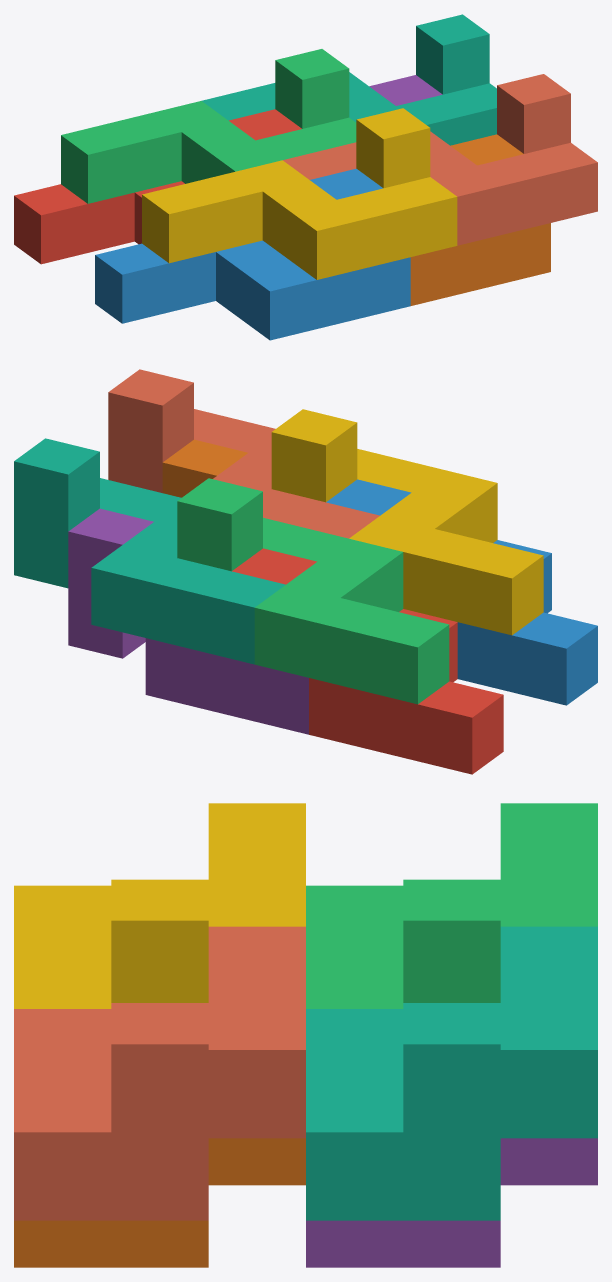
Rendered from tiling.obj.
The picture shows the model from 3 angles, top to bottom: view 1: azimuth 30°, elevation 25°; view 2: azimuth 150°, elevation 25°; view 3: azimuth 270°, elevation 25°; orthographic projection. The views are drawn at different scales.
Parts seen in each view (by area): view 1: copy_1_domain_4, copy_1_domain_3, copy_1_domain_2, copy_1_domain_8, copy_1_domain_7, copy_1_domain_1, copy_1_domain_6, copy_1_domain_5; view 2: copy_1_domain_3, copy_1_domain_7, copy_1_domain_4, copy_1_domain_5, copy_1_domain_1, copy_1_domain_8, copy_1_domain_2, copy_1_domain_6; view 3: copy_1_domain_7, copy_1_domain_8, copy_1_domain_3, copy_1_domain_4, copy_1_domain_5, copy_1_domain_6.
Boxes of the visible parts, x1,y1,x2,y2 form: copy_1_domain_4: (142, 108, 457, 279); copy_1_domain_3: (61, 49, 356, 203); copy_1_domain_2: (95, 168, 410, 340); copy_1_domain_8: (283, 74, 597, 245); copy_1_domain_7: (201, 14, 496, 145); copy_1_domain_1: (14, 109, 301, 264); copy_1_domain_6: (410, 134, 550, 305); copy_1_domain_5: (369, 75, 442, 105); copy_1_domain_3: (177, 478, 449, 704); copy_1_domain_7: (14, 438, 285, 664); copy_1_domain_4: (271, 409, 543, 635); copy_1_domain_5: (68, 508, 308, 734); copy_1_domain_1: (232, 548, 503, 774); copy_1_domain_8: (108, 369, 379, 538); copy_1_domain_2: (326, 479, 597, 705); copy_1_domain_6: (162, 439, 247, 497); copy_1_domain_7: (306, 926, 597, 1220); copy_1_domain_8: (14, 926, 305, 1220); copy_1_domain_3: (306, 803, 597, 1008); copy_1_domain_4: (14, 803, 305, 1008); copy_1_domain_5: (306, 1138, 597, 1267); copy_1_domain_6: (14, 1138, 305, 1267).
Size of the model in its own units: 9 by 3 by 6.
